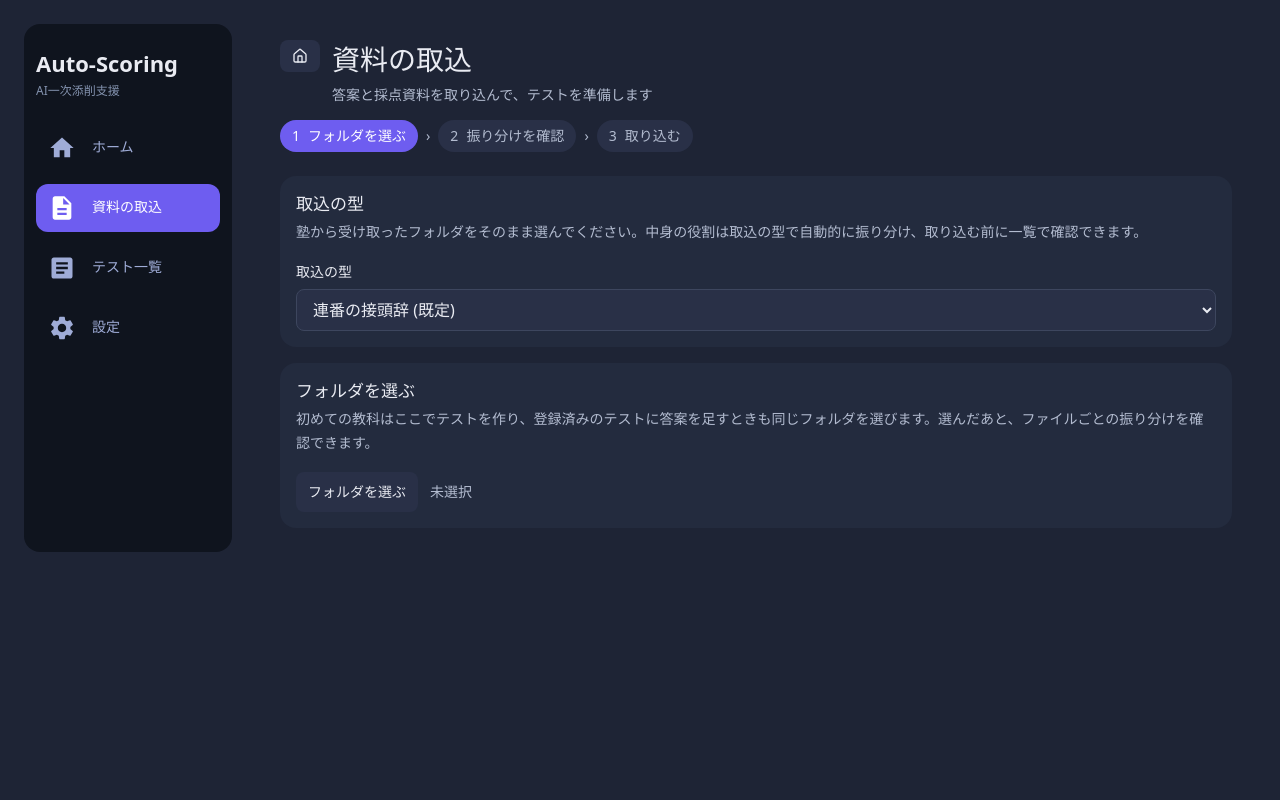
it: Issue #384 (1): folder-level bulk include/exclude › shows the indeterminate state when only some files are selected
Expected: the dropdown with test id "intake-template-picker" is shown, 296,289 -> 1216,331
Click the button with test id "intake-choose-folder": coordinates (357, 492) 296,472 -> 418,512
(page scrolled)
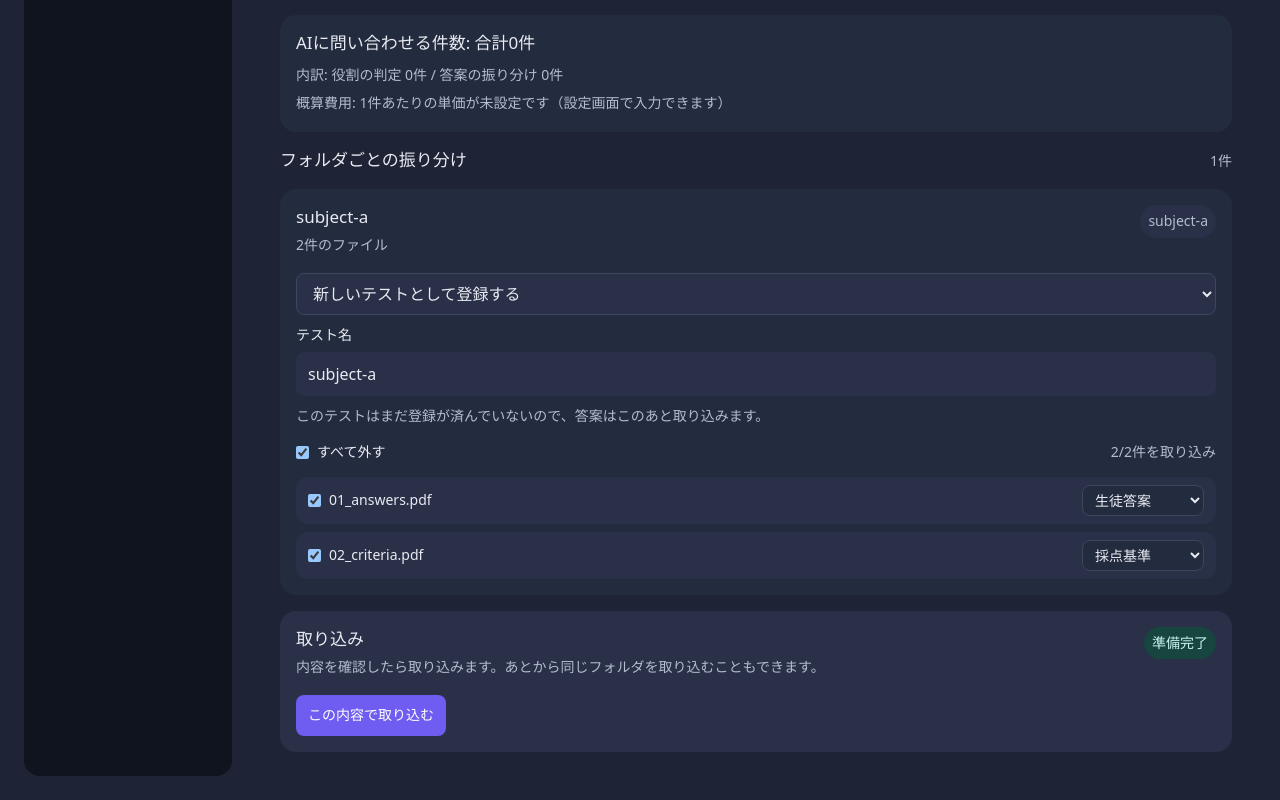
Click the checkbox with test id "intake-include-subject-a/02_criteria.pdf": coordinates (314, 555) 308,549 -> 321,562
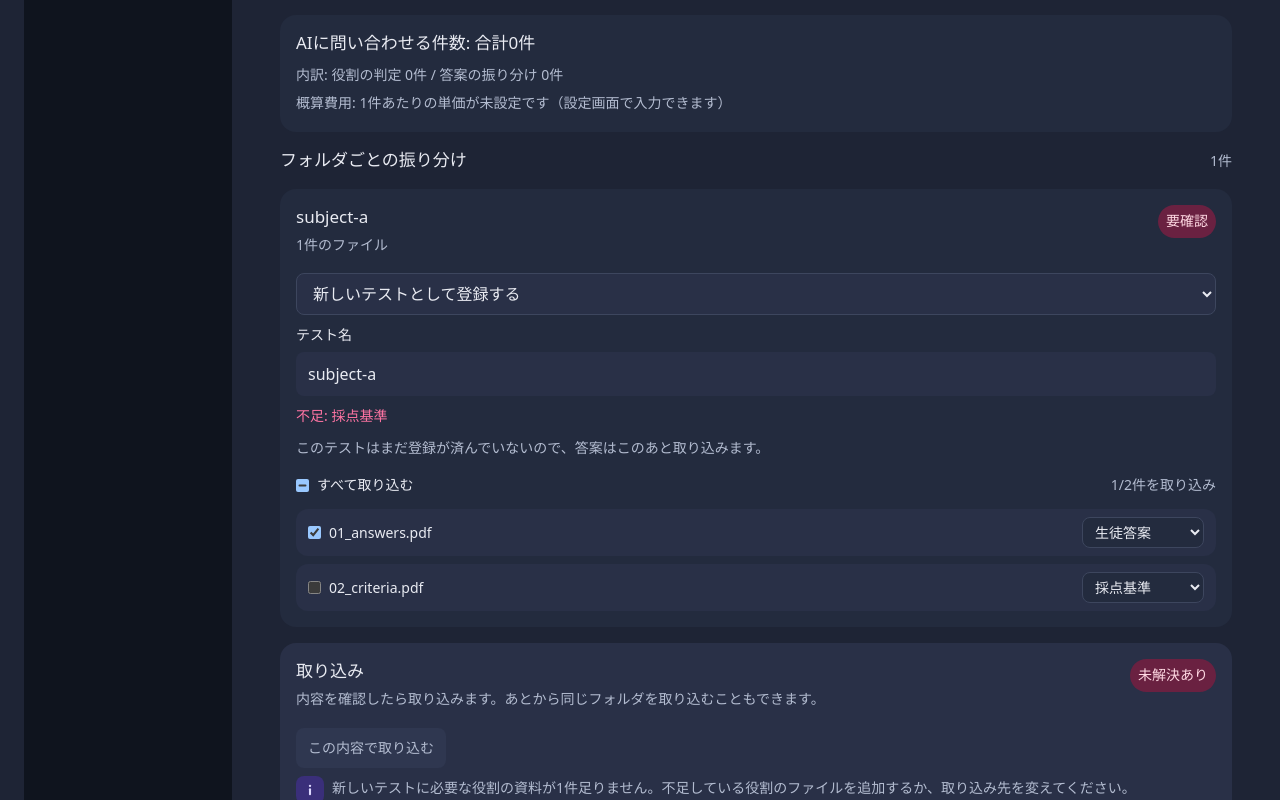
Result: the checkbox with test id "intake-group-include-subject-a" is not checked at 296,479 -> 309,492
Result: the text with test id "intake-group-include-summary-subject-a" reads "1/2件を取り込み" at 1111,473 -> 1216,497
